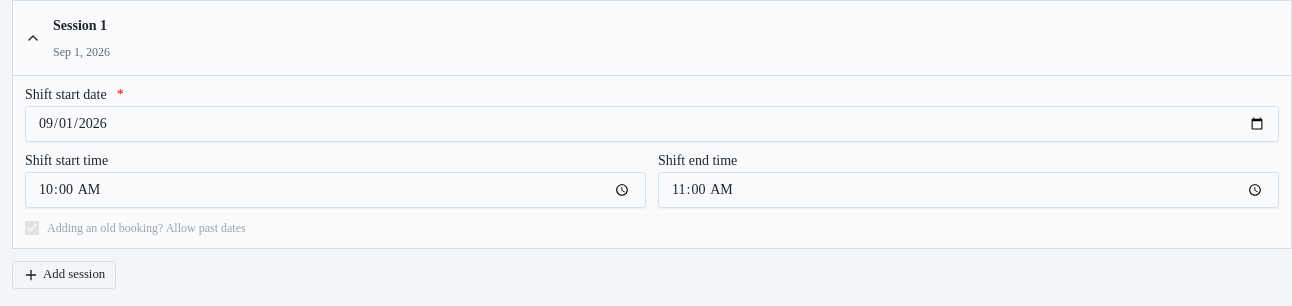
Scenario: SessionsLocationStep end follows start › moves end to start + 1h when start changes past end
The image size is (1292, 306).
Replace the text in the time field labelled "Shift start time" with "14:00" at (336, 190), box [25,172,646,208]
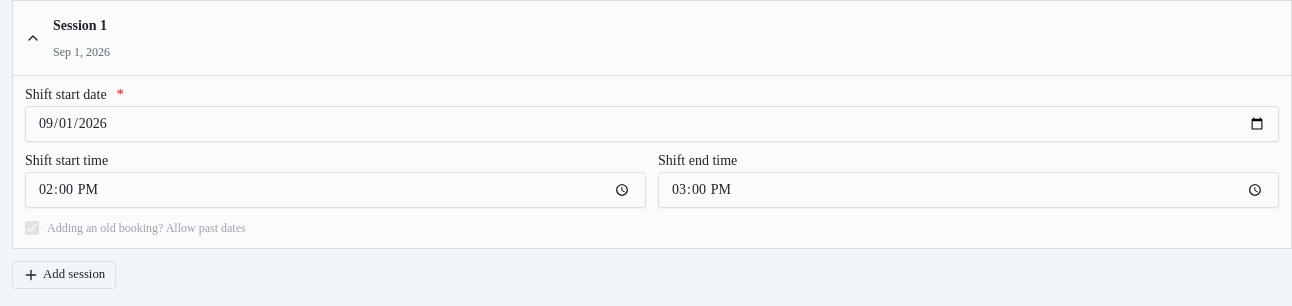
Check: the time field labelled "Shift end time" holds "15:00", box [658,172,1279,208]
